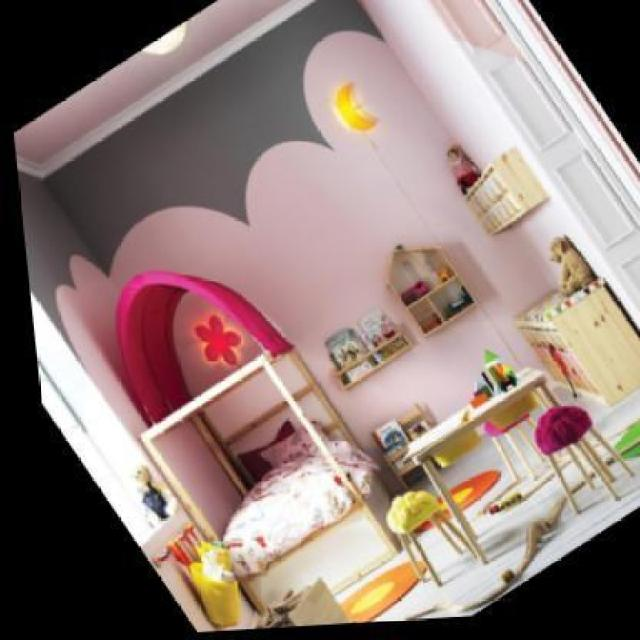tables: (382, 366, 569, 565)
